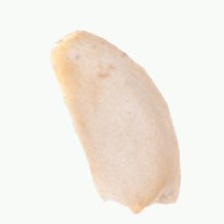L1: (99, 192, 177, 214), (51, 29, 85, 56)
L2: (52, 29, 181, 213)
